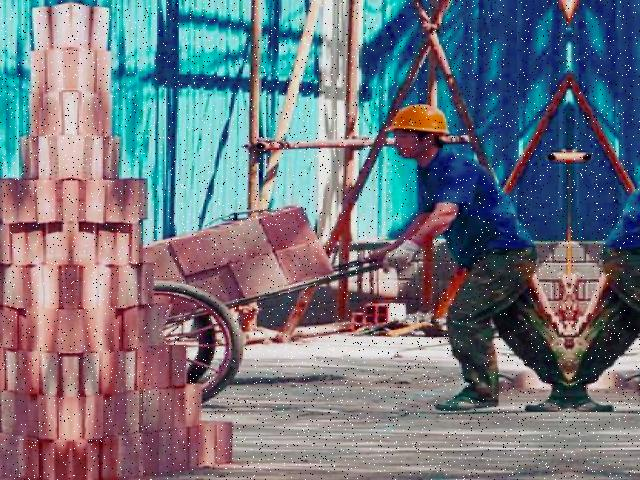Helmet: (384, 99, 454, 143)
